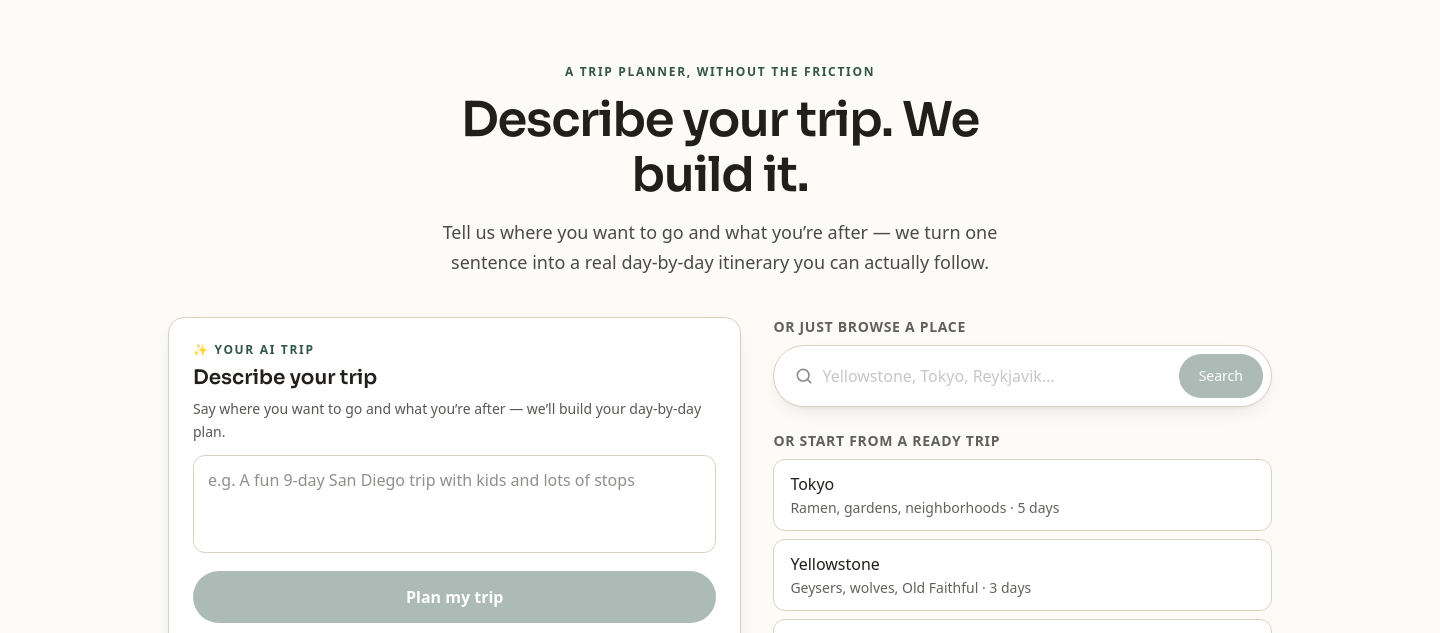
Test: Chronicle SearchScreen › shows an error message when trip creation fails
Type "Nowhereville" into the dropdown named "search destinations".
click(997, 376); type("Nowhereville")  # box [822,356,1171,396]
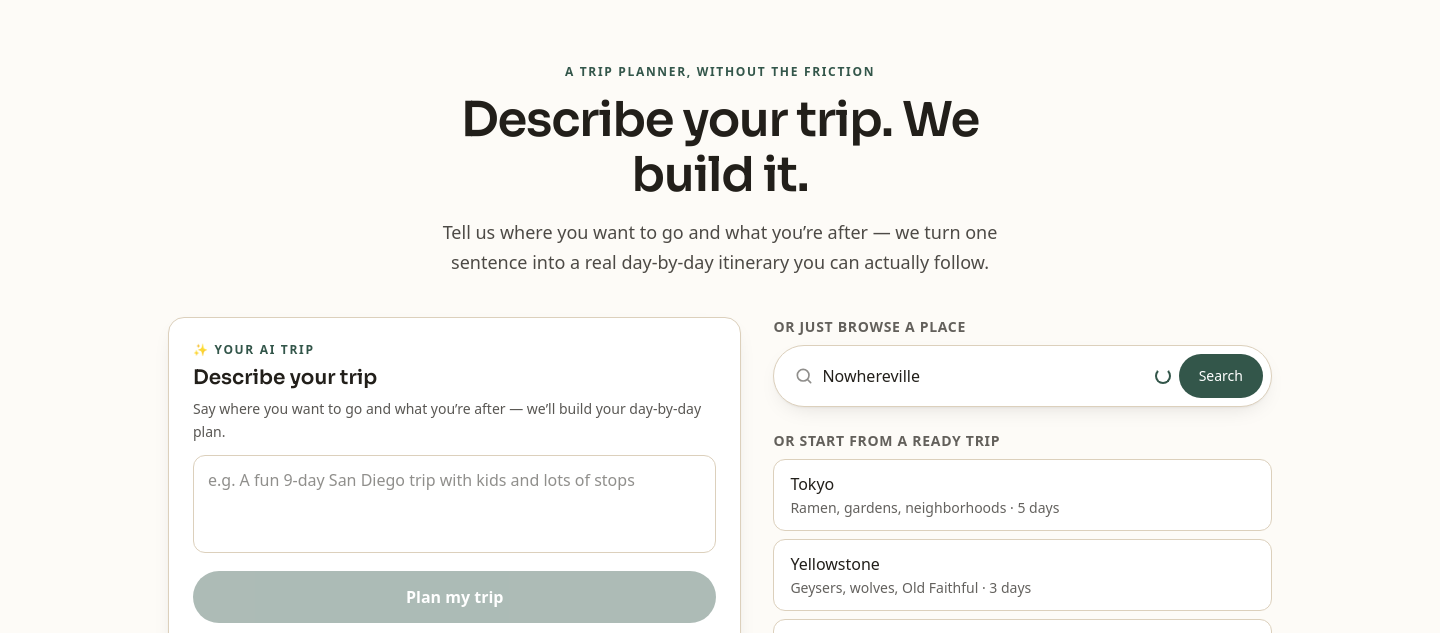
Click the button "Search".
click(1221, 376)  # box [1179,354,1263,398]
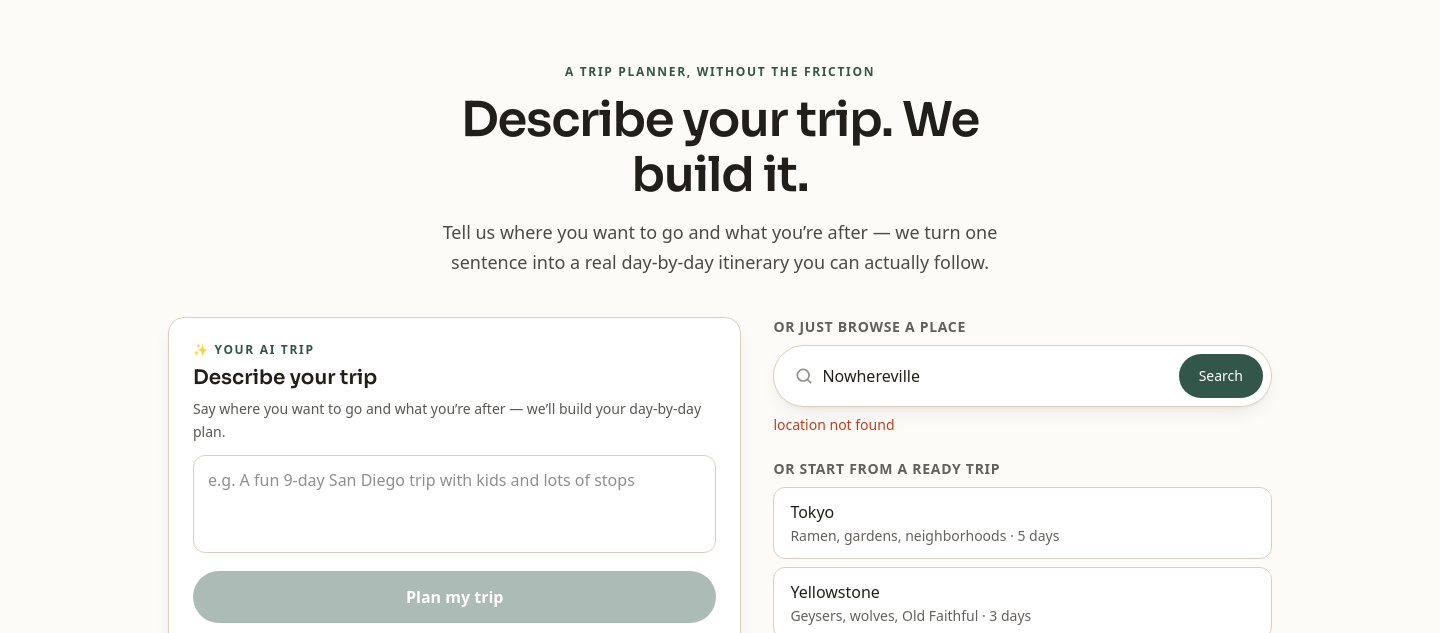
Check: the message reads "location not found", box [773,415,894,434]
